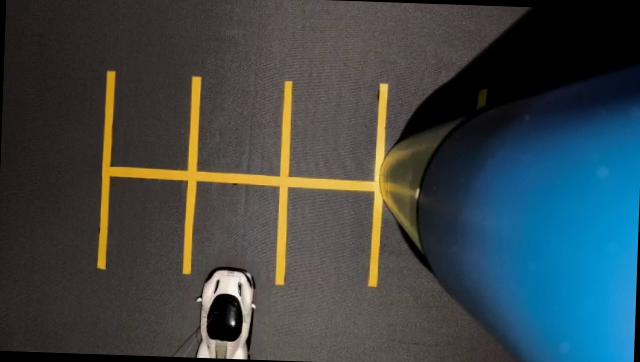toy_car: (178, 248, 286, 361)
